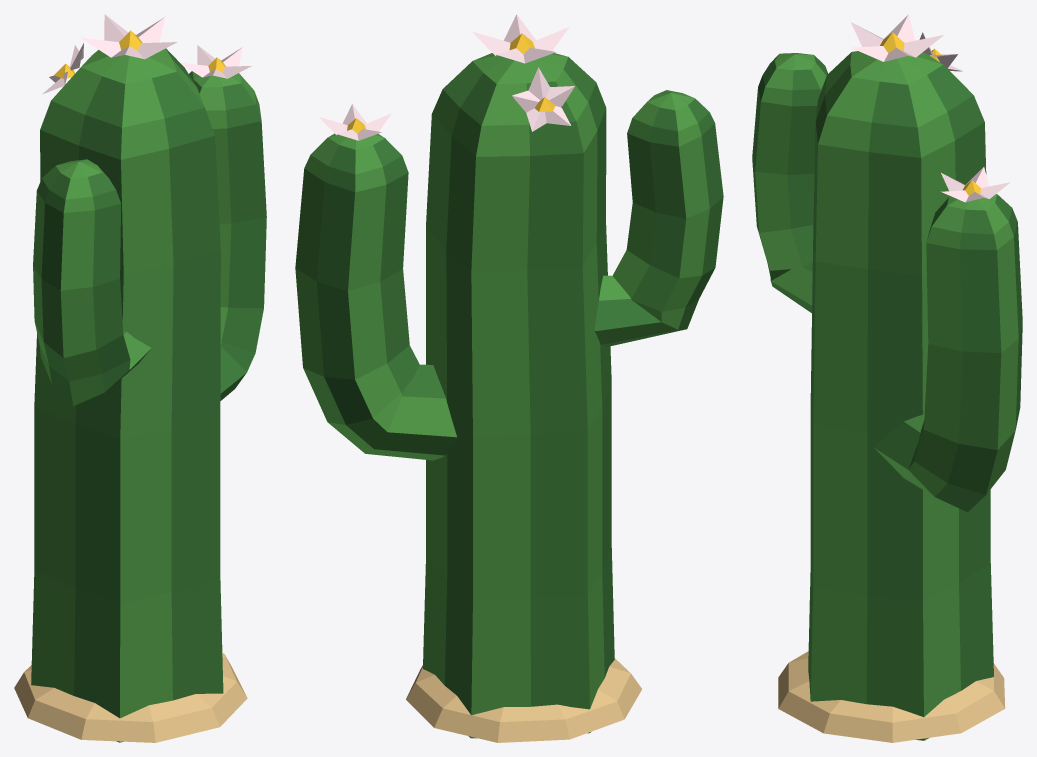
The model's file is cactus_post.glb.
The picture shows the model from 3 angles, left to right: view 1: azimuth 30°, elevation 25°; view 2: azimuth 150°, elevation 25°; view 3: azimuth 270°, elevation 25°; orthographic projection.
Visible parts, largest first — view 1: cactus_post; view 2: cactus_post; view 3: cactus_post.
Boxes of the visible parts, x1,y1,x2,y2 form: cactus_post: (14, 14, 266, 742); cactus_post: (295, 14, 723, 742); cactus_post: (752, 14, 1022, 742).
Size of the model in its own units: 0.9956 by 2.05 by 0.7514.
